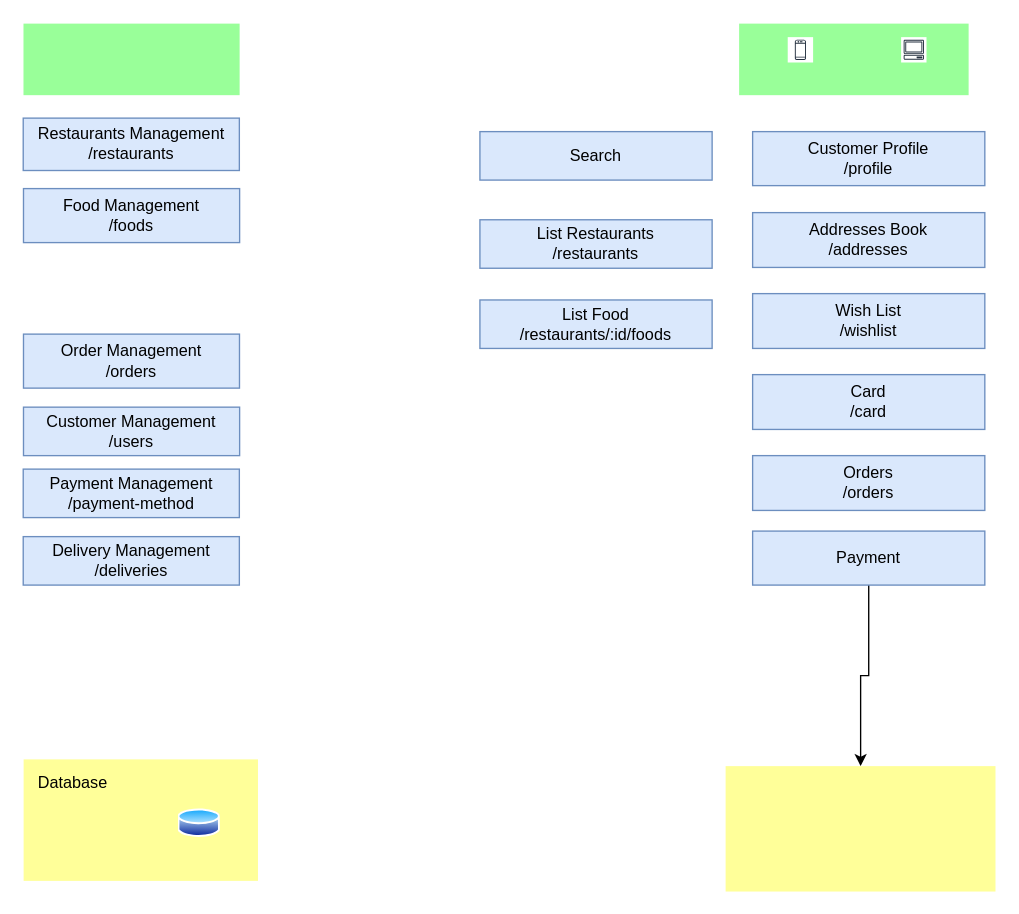
The diagram is 1019 pixels wide and 914 high, and some of its shapes have lost their labels. The shapes that lost their labels are listed below. From the top down, each one's box as (x1, y1, x2, y2) in pixels, then its label:
(23, 23, 239, 94): Admin Backoffice
(786, 36, 813, 63): Mobile client
(900, 36, 927, 63): Client
(725, 765, 995, 891): 3rd parties
